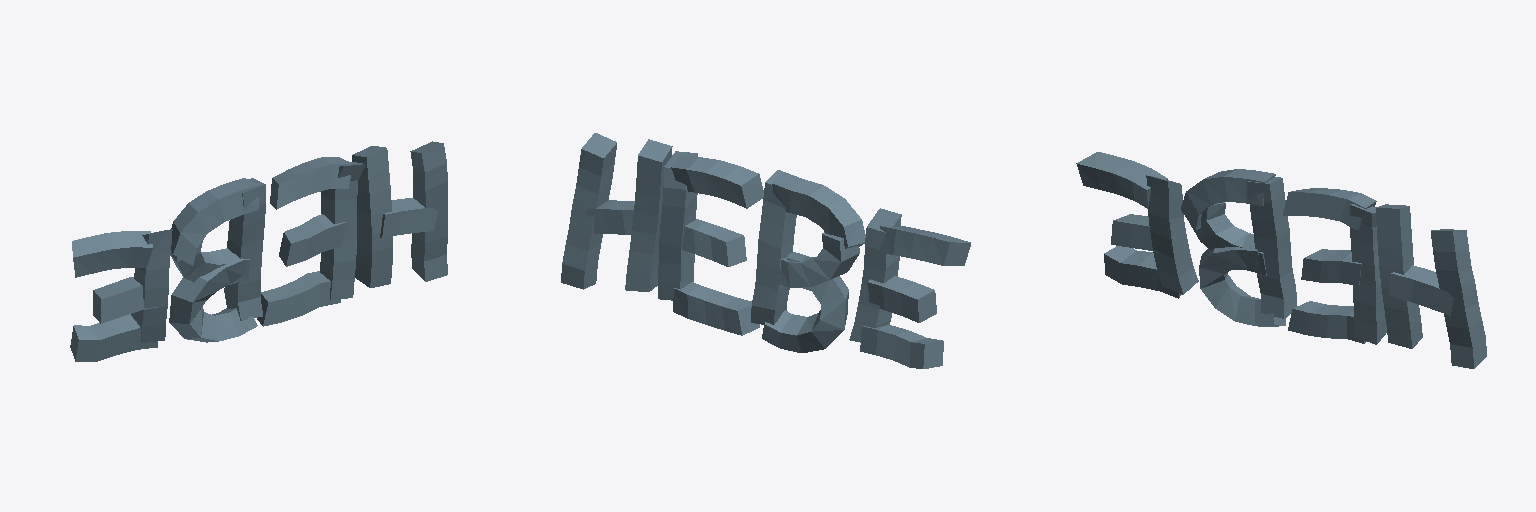
File: HEBE.obj
3 renders of one model, left to right at view 1: azimuth 30°, elevation 25°; view 2: azimuth 150°, elevation 25°; view 3: azimuth 330°, elevation 25°, orthographic.
Parts seen in each view (by area): view 1: group[number redacted], group[number redacted], group[number redacted], group[number redacted], group[number redacted], group[number redacted], group[number redacted], group[number redacted], group[number redacted], group[number redacted], group[number redacted], group[number redacted] (+3 smaller); view 2: group[number redacted], group[number redacted], group[number redacted], group[number redacted], group[number redacted], group[number redacted], group[number redacted], group[number redacted], group[number redacted], group[number redacted], group[number redacted], group[number redacted] (+3 smaller); view 3: group[number redacted], group[number redacted], group[number redacted], group[number redacted], group[number redacted], group[number redacted], group[number redacted], group[number redacted], group[number redacted], group[number redacted], group[number redacted], group[number redacted] (+3 smaller).
Part boxes in pixels (left/top/right/bottom): group[number redacted]: left=352, top=146, right=392, bottom=287; group[number redacted]: left=169, top=249, right=257, bottom=342; group[number redacted]: left=410, top=141, right=447, bottom=281; group[number redacted]: left=171, top=178, right=259, bottom=265; group[number redacted]: left=320, top=162, right=365, bottom=299; group[number redacted]: left=224, top=178, right=265, bottom=320; group[number redacted]: left=131, top=229, right=172, bottom=342; group[number redacted]: left=72, top=231, right=152, bottom=277; group[number redacted]: left=70, top=314, right=157, bottom=361; group[number redacted]: left=257, top=271, right=340, bottom=326; group[number redacted]: left=270, top=157, right=352, bottom=209; group[number redacted]: left=279, top=214, right=345, bottom=266; group[number redacted]: left=561, top=133, right=616, bottom=289; group[number redacted]: left=625, top=139, right=672, bottom=291; group[number redacted]: left=751, top=170, right=796, bottom=324; group[number redacted]: left=762, top=252, right=848, bottom=352; group[number redacted]: left=658, top=151, right=697, bottom=300; group[number redacted]: left=772, top=172, right=865, bottom=248; group[number redacted]: left=671, top=155, right=763, bottom=208; group[number redacted]: left=849, top=208, right=901, bottom=342; group[number redacted]: left=673, top=282, right=759, bottom=335; group[number redacted]: left=860, top=324, right=943, bottom=368; group[number redacted]: left=879, top=226, right=970, bottom=265; group[number redacted]: left=779, top=232, right=859, bottom=287; group[number redacted]: left=1431, top=229, right=1486, bottom=368; group[number redacted]: left=1247, top=177, right=1296, bottom=318; group[number redacted]: left=1376, top=204, right=1422, bottom=348; group[number redacted]: left=1146, top=175, right=1198, bottom=294; group[number redacted]: left=1199, top=235, right=1285, bottom=326; group[number redacted]: left=1350, top=204, right=1386, bottom=344; group[number redacted]: left=1076, top=152, right=1167, bottom=208; group[number redacted]: left=1181, top=169, right=1275, bottom=229; group[number redacted]: left=1283, top=188, right=1376, bottom=229; group[number redacted]: left=1288, top=301, right=1366, bottom=343; group[number redacted]: left=1104, top=246, right=1181, bottom=298; group[number redacted]: left=1389, top=265, right=1453, bottom=315.
Bounding box in the file's own units: 1.08 × 0.4375 × 0.1475.